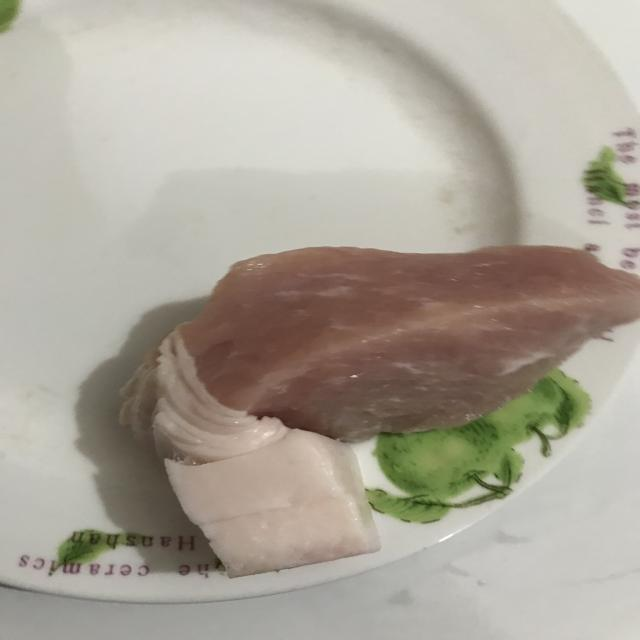chicken: (136, 246, 640, 570)
